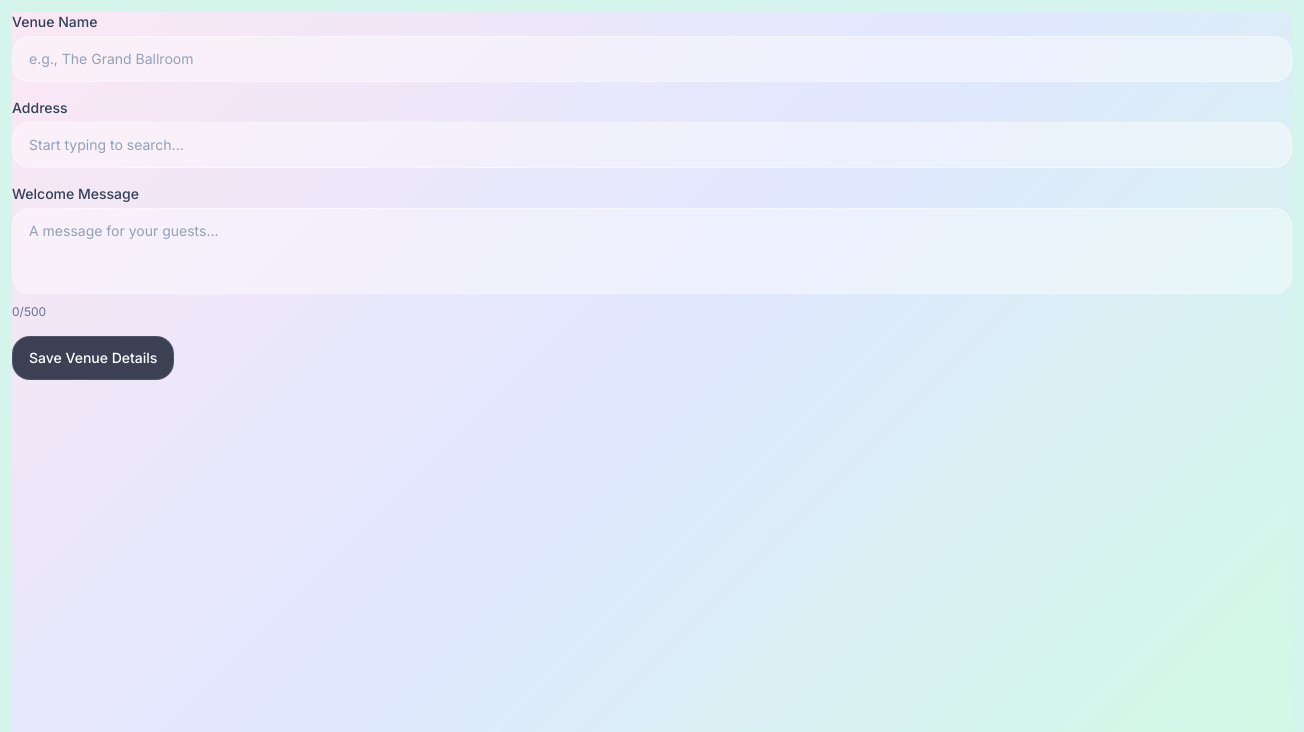
VenueEditor › shows error message when updateWeddingDetails throws
Step 1. Click the button "Save Venue Details" → [93, 358], box [12,336,174,380]
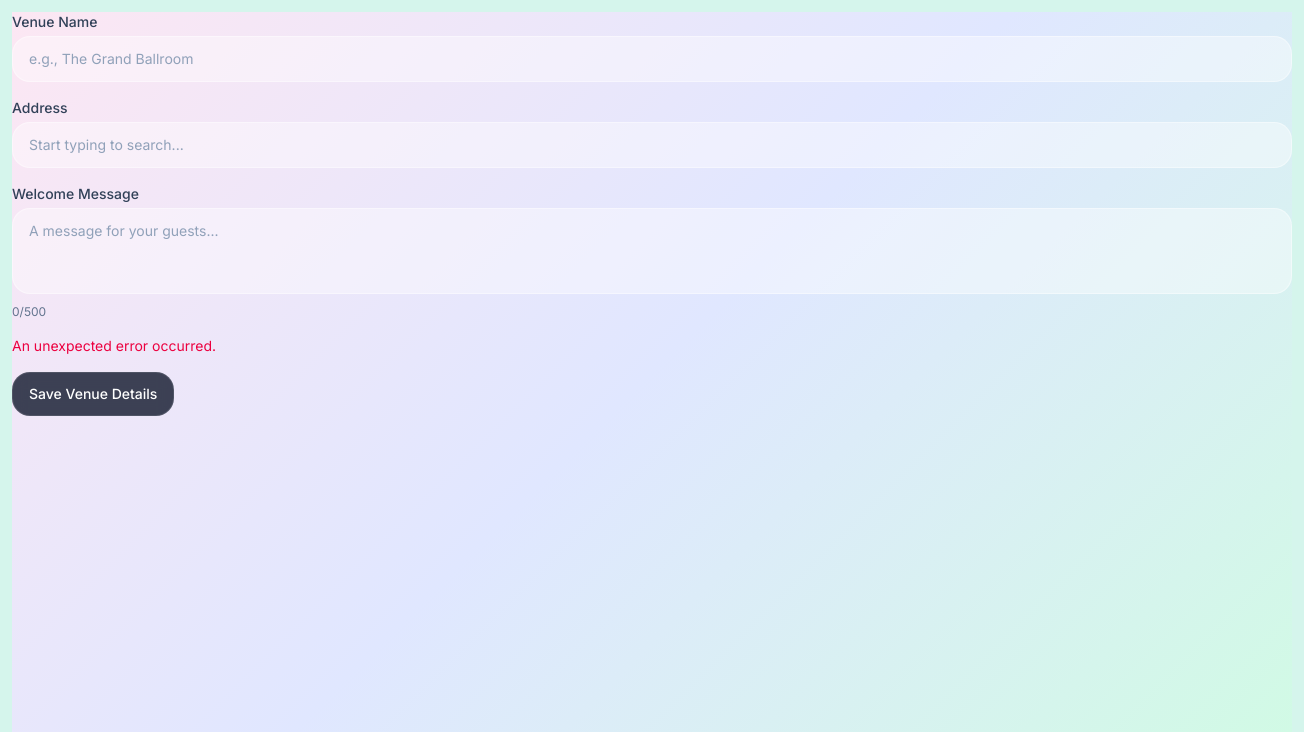
Expected: the text "An unexpected error occurred." is shown, [12,337,216,354]
